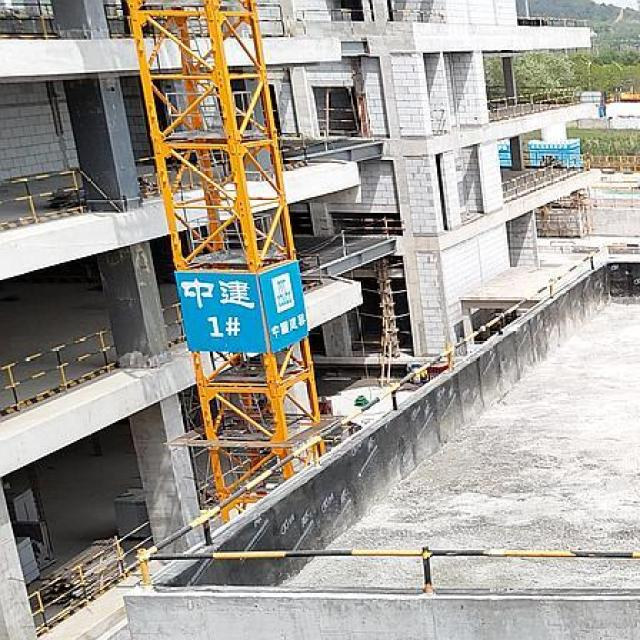edge_guardrail: (135, 242, 640, 596), (27, 520, 154, 637), (0, 326, 119, 414), (0, 167, 89, 224), (502, 150, 591, 203), (488, 86, 575, 121), (0, 0, 60, 40), (331, 218, 402, 235), (277, 131, 307, 166), (161, 303, 186, 344), (256, 3, 286, 37), (317, 108, 357, 133), (296, 8, 364, 22), (388, 9, 446, 24), (517, 16, 587, 27), (430, 109, 447, 132), (498, 149, 512, 161)
